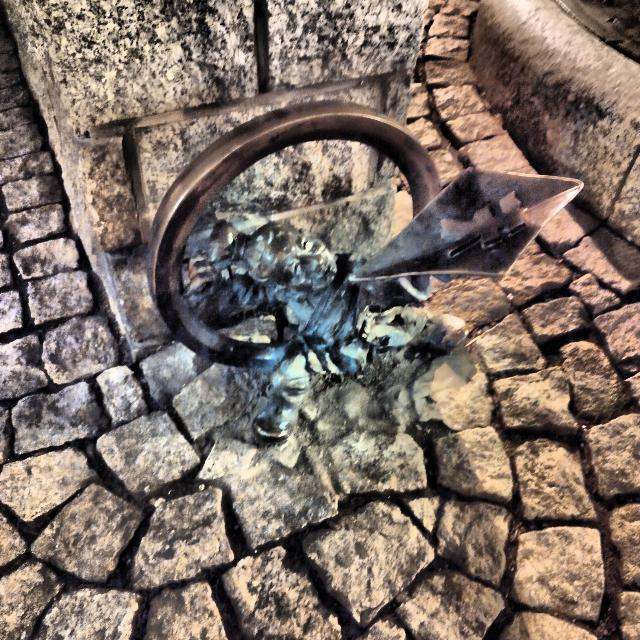TianTian: (151, 101, 582, 439)
